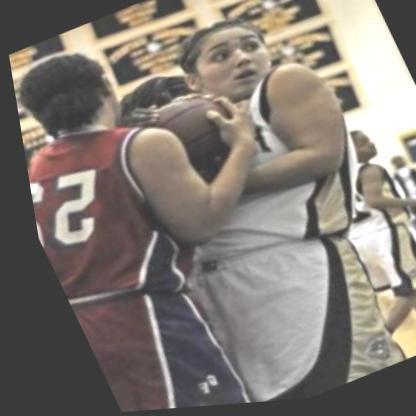basketball: (127, 82, 248, 189)
